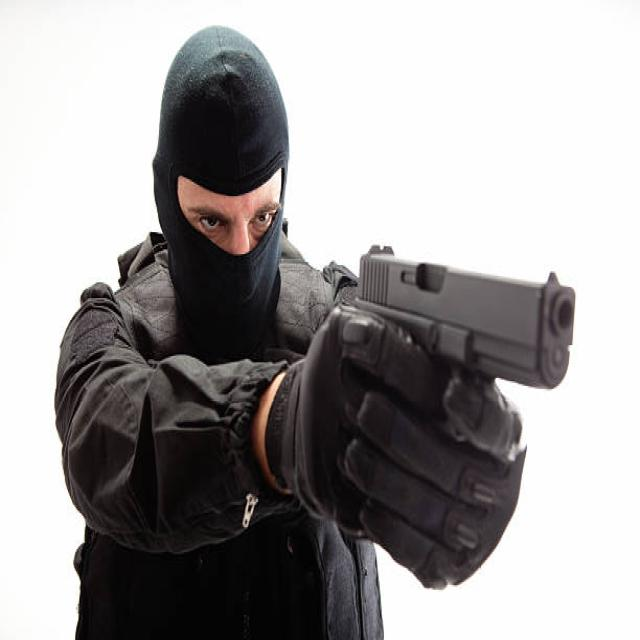soldier: (59, 22, 576, 640)
